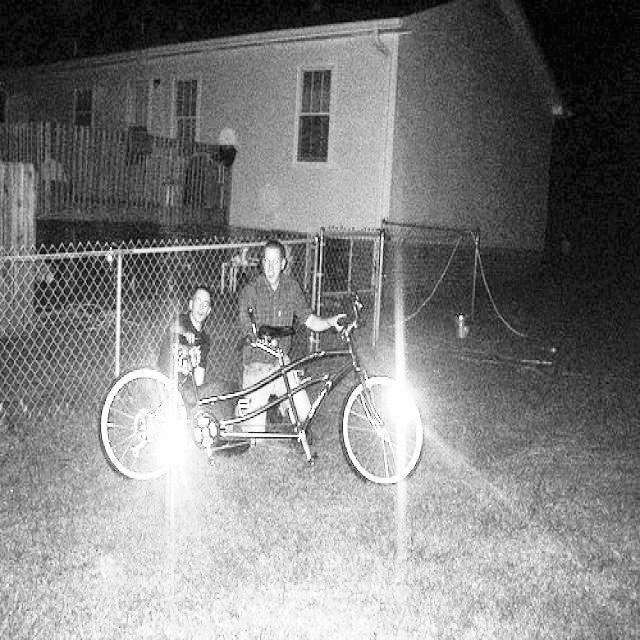Bicycle: (90, 341, 441, 526)
